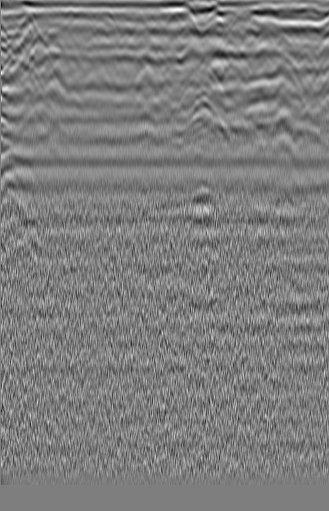상수: (265, 61, 303, 87)
오수: (10, 25, 46, 61)
우수: (130, 61, 160, 88)
